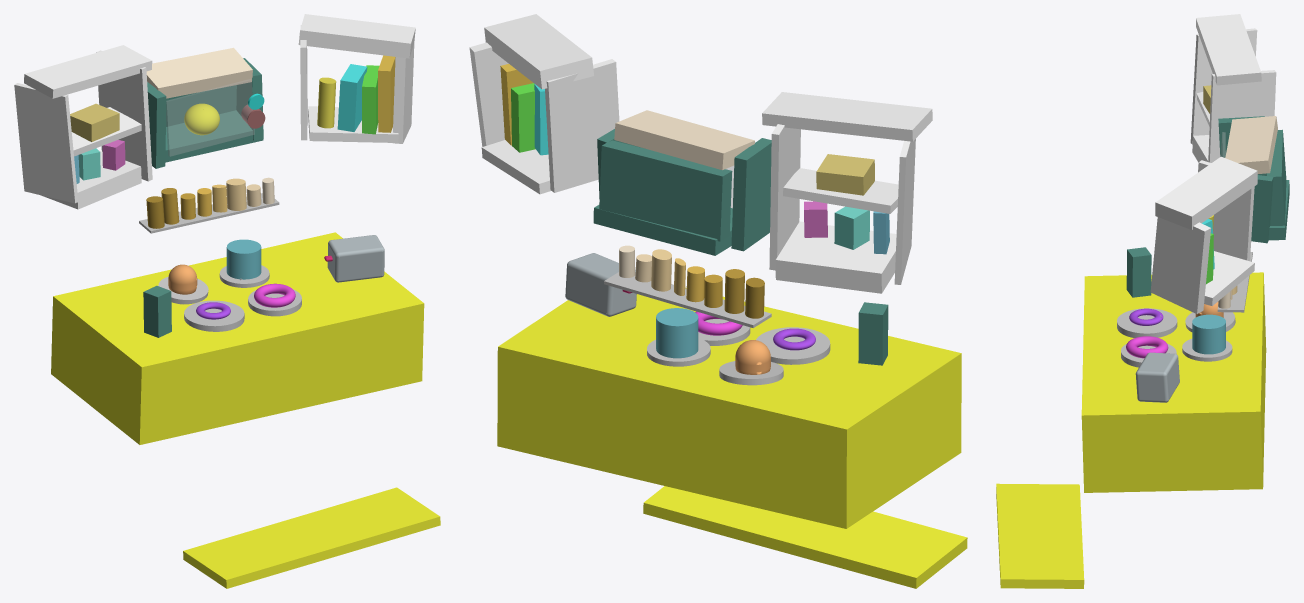
File: shapeskitchen01.glb
The picture shows the model from 3 angles, left to right: view 1: azimuth 30°, elevation 25°; view 2: azimuth 150°, elevation 25°; view 3: azimuth 270°, elevation 25°; orthographic projection. The views are drawn at different scales.
Visible parts, largest first — view 1: Plane.001, Plane.017, Plane.005, Cube.007, Plane.016, Plane.008, Cube.003, Plane.004, Cube.002, Rounded Cube, Plane.006, Plane.014 (+25 smaller); view 2: Plane.001, Plane.017, Plane.002, Plane.013, Plane.008, Plane.006, Plane.016, Cube.003, Cube, Plane.004, Rounded Cube, Plane.014 (+25 smaller); view 3: Plane.001, Plane.017, Plane.014, Plane.016, Plane.008, Plane.004, Cube.003, Plane.013, Rounded Cube, Plane.015, Plane.005, Plane.002 (+12 smaller).
Boxes of the visible parts, x1=… form: Plane.001: x1=51, y1=232, x2=424, y2=444; Plane.017: x1=183, y1=487, x2=440, y2=588; Plane.005: x1=14, y1=83, x2=78, y2=203; Cube.007: x1=166, y1=79, x2=254, y2=156; Plane.016: x1=298, y1=14, x2=415, y2=58; Plane.008: x1=24, y1=45, x2=152, y2=98; Cube.003: x1=146, y1=47, x2=252, y2=98; Plane.004: x1=96, y1=50, x2=152, y2=181; Cube.002: x1=165, y1=110, x2=263, y2=162; Rounded Cube: x1=327, y1=235, x2=384, y2=282; Plane.006: x1=41, y1=150, x2=141, y2=209; Plane.014: x1=393, y1=43, x2=414, y2=143; Plane.001: x1=497, y1=287, x2=961, y2=528; Plane.017: x1=643, y1=486, x2=967, y2=588; Plane.002: x1=599, y1=140, x2=732, y2=241; Plane.013: x1=545, y1=59, x2=619, y2=192; Plane.008: x1=762, y1=92, x2=932, y2=141; Plane.006: x1=775, y1=221, x2=896, y2=293; Plane.016: x1=484, y1=14, x2=593, y2=89; Cube.003: x1=614, y1=110, x2=754, y2=170; Cube: x1=731, y1=138, x2=771, y2=251; Plane.004: x1=769, y1=124, x2=800, y2=270; Rounded Cube: x1=565, y1=253, x2=636, y2=316; Plane.014: x1=469, y1=42, x2=508, y2=146; Plane.001: x1=1081, y1=272, x2=1266, y2=492; Plane.017: x1=996, y1=483, x2=1084, y2=588; Plane.014: x1=1150, y1=217, x2=1211, y2=313; Plane.016: x1=1155, y1=156, x2=1257, y2=229; Plane.008: x1=1196, y1=14, x2=1261, y2=85; Plane.004: x1=1208, y1=70, x2=1276, y2=162; Cube.003: x1=1225, y1=116, x2=1277, y2=173; Plane.013: x1=1198, y1=160, x2=1254, y2=261; Rounded Cube: x1=1135, y1=352, x2=1179, y2=402; Plane.015: x1=1151, y1=251, x2=1254, y2=305; Plane.005: x1=1190, y1=28, x2=1257, y2=144; Plane.002: x1=1267, y1=129, x2=1286, y2=225.
Size of the model in its own units: 1.85 by 2.1 by 1.27.
